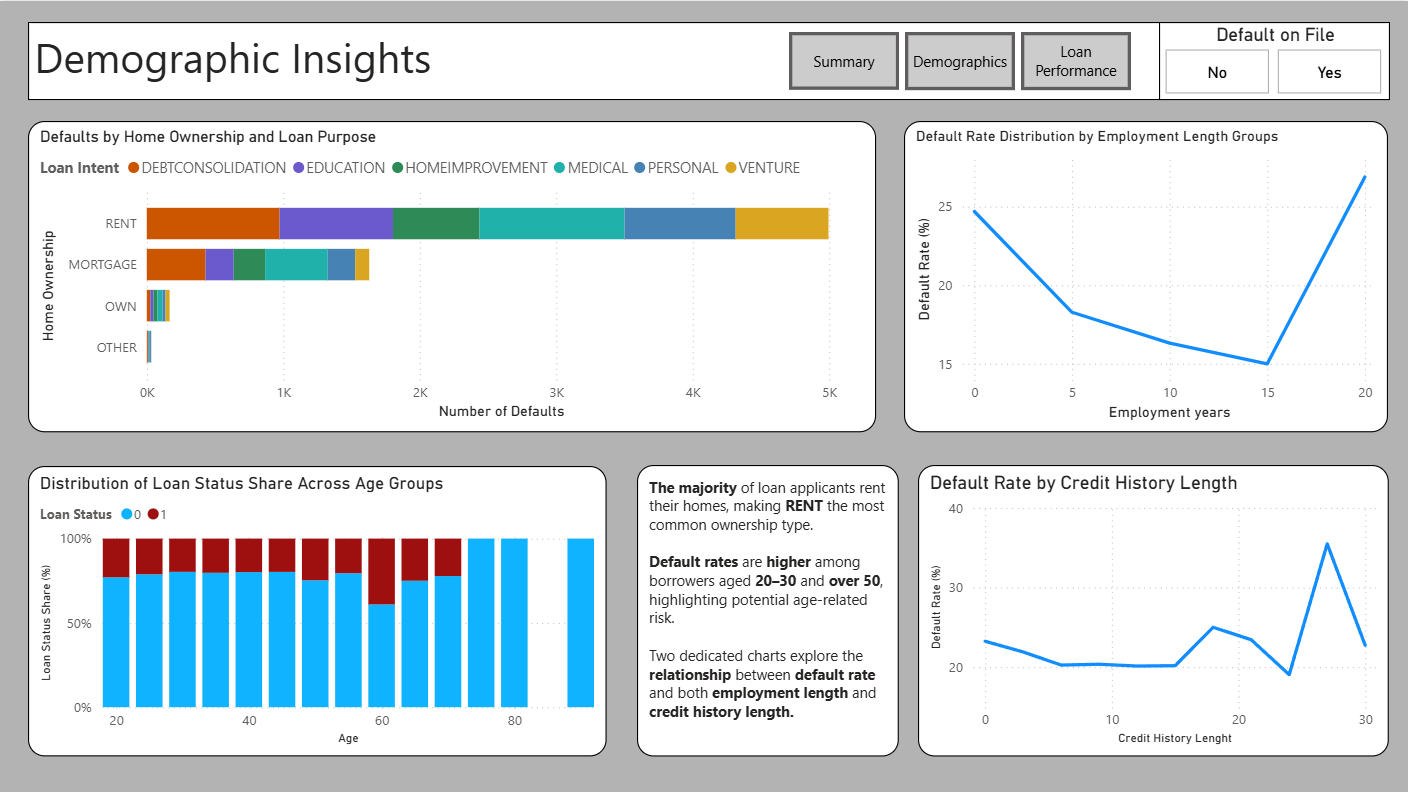

Layout of this report page (visuals, bound fields, positions):
{"tool":"powerbi","page":{"name":"2","canvas":[1280,720],"ordinal":1},"visuals":[{"type":"textbox","box":[25.8,18.7,1237.3,71.1],"z":0},{"type":"barChart","title":"Defaults by Home Ownership and Loan Purpose","fields":{"Y":["Table1.ProcentNiesplaconych"],"Series":["Table1.loan_intent"],"Category":["Table1.person_home_ownership"]},"box":[25.5,109,771.1,282.9],"z":2000},{"type":"lineChart","title":"Default Rate Distribution by Employment Length Groups","fields":{"Y":["Table1.Default Rate by Emp Length"],"Category":["Table1.person_emp_length (bins)"]},"box":[822,109,440,283],"z":3000},{"type":"hundredPercentStackedColumnChart","title":"Distribution of Loan Status Share Across Age Groups","fields":{"Series":["Table1.loan_status"],"Y":["CountNonNull(Table1.loan_status)"],"Category":["Table1.person_age (bins) 2"]},"box":[25.5,422.4,525.6,264.3],"z":4000},{"type":"textbox","box":[579,422,238,265],"z":5000},{"type":"actionButton","box":[716.8,28.2,100.2,52.5],"z":6000},{"type":"actionButton","box":[822.9,27.9,100,52.9],"z":7000},{"type":"actionButton","box":[928.6,27.9,100,52.9],"z":8000},{"type":"advancedSlicerVisual","title":"Default on File","fields":{"Values":["Table1.Default on File Label"]},"box":[1053.3,18.7,209.8,71.1],"z":9000},{"type":"lineChart","title":"Default Rate by Credit History Length","fields":{"Y":["Table1.Avg Loan Status % by Age"],"Category":["Table1.cb_person_cred_hist_length (bins)"]},"box":[834.7,422.2,427.6,264.9],"z":10000}]}

Visuals, with their boxes in screenshot pixels (x1, y1, x2, y2), scaled from the page's 1280x720 canvas onto the 1408x792 screenshot:
textbox: bbox=[28, 21, 1389, 99]
"Defaults by Home Ownership and Loan Purpose" barChart: bbox=[28, 120, 876, 431]
"Default Rate Distribution by Employment Length Groups" lineChart: bbox=[904, 120, 1388, 431]
"Distribution of Loan Status Share Across Age Groups" hundredPercentStackedColumnChart: bbox=[28, 465, 606, 755]
textbox: bbox=[637, 464, 899, 756]
actionButton: bbox=[788, 31, 899, 89]
actionButton: bbox=[905, 31, 1015, 89]
actionButton: bbox=[1021, 31, 1131, 89]
"Default on File" advancedSlicerVisual: bbox=[1159, 21, 1389, 99]
"Default Rate by Credit History Length" lineChart: bbox=[918, 464, 1389, 756]
